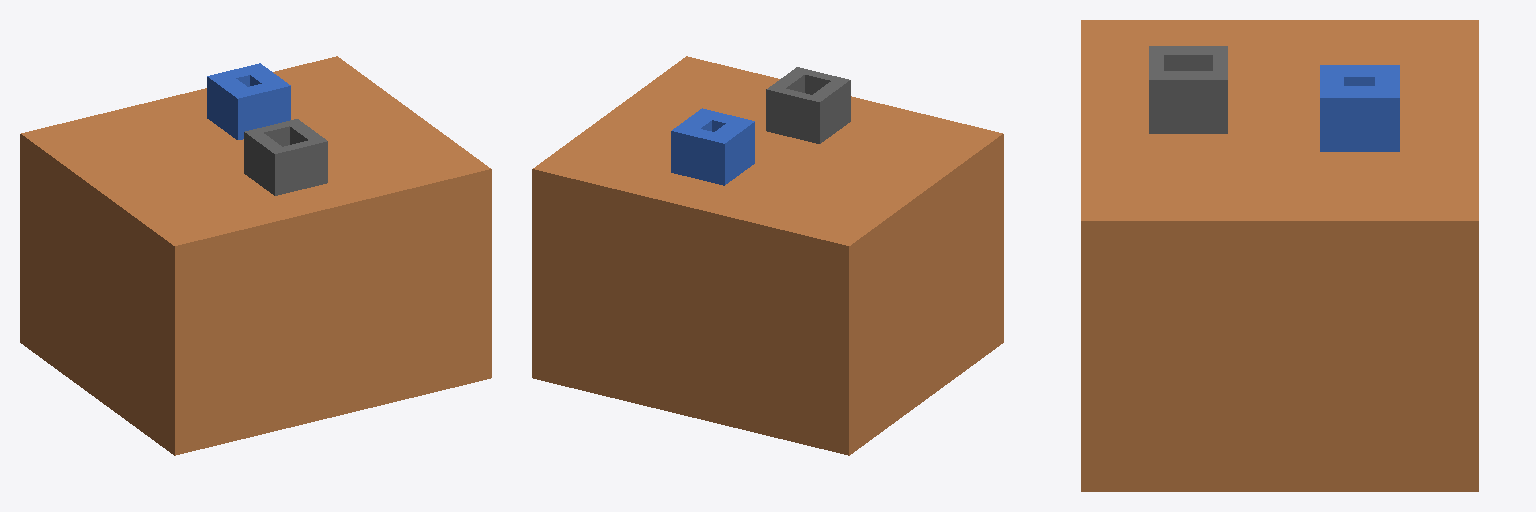
The robot description file, URDF, robot "peg_in_hole_fixtured_scene_0031_peg0018_tol04":
<?xml version="1.0"?>
<robot name="peg_in_hole_fixtured_scene_0031_peg0018_tol04">
  <material name="wood"><color rgba="0.82 0.56 0.35 1.0"/></material>
  <material name="start_fix"><color rgba="0.30 0.50 0.85 1.0"/></material>
  <material name="goal_fix"><color rgba="0.4706 0.4706 0.4706 1.0"/></material>
  <link name="box">
    <visual>
      <origin xyz="0.000000 0.000000 0.000000" rpy="0 0 0"/>
      <geometry><box size="0.475000 0.400000 0.300000"/></geometry>
      <material name="wood"/>
    </visual>
    <collision>
      <origin xyz="0.000000 0.000000 0.000000" rpy="0 0 0"/>
      <geometry><box size="0.475000 0.400000 0.300000"/></geometry>
    </collision>
    <visual>
      <origin xyz="0.035754 0.080003 0.155000" rpy="0 0 0"/>
      <geometry><box size="0.080000 0.080000 0.010000"/></geometry>
      <material name="start_fix"/>
    </visual>
    <collision>
      <origin xyz="0.035754 0.080003 0.155000" rpy="0 0 0"/>
      <geometry><box size="0.080000 0.080000 0.010000"/></geometry>
    </collision>
    <visual>
      <origin xyz="0.061004 0.080003 0.185000" rpy="0 0 0"/>
      <geometry><box size="0.029500 0.080000 0.050000"/></geometry>
      <material name="start_fix"/>
    </visual>
    <collision>
      <origin xyz="0.061004 0.080003 0.185000" rpy="0 0 0"/>
      <geometry><box size="0.029500 0.080000 0.050000"/></geometry>
    </collision>
    <visual>
      <origin xyz="0.010504 0.080003 0.185000" rpy="0 0 0"/>
      <geometry><box size="0.029500 0.080000 0.050000"/></geometry>
      <material name="start_fix"/>
    </visual>
    <collision>
      <origin xyz="0.010504 0.080003 0.185000" rpy="0 0 0"/>
      <geometry><box size="0.029500 0.080000 0.050000"/></geometry>
    </collision>
    <visual>
      <origin xyz="0.035754 0.107753 0.185000" rpy="0 0 0"/>
      <geometry><box size="0.021000 0.024500 0.050000"/></geometry>
      <material name="start_fix"/>
    </visual>
    <collision>
      <origin xyz="0.035754 0.107753 0.185000" rpy="0 0 0"/>
      <geometry><box size="0.021000 0.024500 0.050000"/></geometry>
    </collision>
    <visual>
      <origin xyz="0.035754 0.052253 0.185000" rpy="0 0 0"/>
      <geometry><box size="0.021000 0.024500 0.050000"/></geometry>
      <material name="start_fix"/>
    </visual>
    <collision>
      <origin xyz="0.035754 0.052253 0.185000" rpy="0 0 0"/>
      <geometry><box size="0.021000 0.024500 0.050000"/></geometry>
    </collision>
    <visual>
      <origin xyz="-0.007700 -0.091849 0.155000" rpy="0 0 0"/>
      <geometry><box size="0.080000 0.080000 0.010000"/></geometry>
      <material name="goal_fix"/>
    </visual>
    <collision>
      <origin xyz="-0.007700 -0.091849 0.155000" rpy="0 0 0"/>
      <geometry><box size="0.080000 0.080000 0.010000"/></geometry>
    </collision>
    <visual>
      <origin xyz="0.022236 -0.091849 0.185000" rpy="0 0 0"/>
      <geometry><box size="0.020128 0.080000 0.050000"/></geometry>
      <material name="goal_fix"/>
    </visual>
    <collision>
      <origin xyz="0.022236 -0.091849 0.185000" rpy="0 0 0"/>
      <geometry><box size="0.020128 0.080000 0.050000"/></geometry>
    </collision>
    <visual>
      <origin xyz="-0.037636 -0.091849 0.185000" rpy="0 0 0"/>
      <geometry><box size="0.020128 0.080000 0.050000"/></geometry>
      <material name="goal_fix"/>
    </visual>
    <collision>
      <origin xyz="-0.037636 -0.091849 0.185000" rpy="0 0 0"/>
      <geometry><box size="0.020128 0.080000 0.050000"/></geometry>
    </collision>
    <visual>
      <origin xyz="-0.007700 -0.059413 0.185000" rpy="0 0 0"/>
      <geometry><box size="0.039745 0.015128 0.050000"/></geometry>
      <material name="goal_fix"/>
    </visual>
    <collision>
      <origin xyz="-0.007700 -0.059413 0.185000" rpy="0 0 0"/>
      <geometry><box size="0.039745 0.015128 0.050000"/></geometry>
    </collision>
    <visual>
      <origin xyz="-0.007700 -0.124286 0.185000" rpy="0 0 0"/>
      <geometry><box size="0.039745 0.015128 0.050000"/></geometry>
      <material name="goal_fix"/>
    </visual>
    <collision>
      <origin xyz="-0.007700 -0.124286 0.185000" rpy="0 0 0"/>
      <geometry><box size="0.039745 0.015128 0.050000"/></geometry>
    </collision>
    <inertial>
      <mass value="500"/>
      <friction value="1.0"/>
      <inertia ixx="1000.0" ixy="0.0" ixz="0.0" iyy="1000.0" iyz="0.0" izz="1000.0"/>
    </inertial>
  </link>
</robot>

--- Render facts (derived) ---
The picture shows the robot from 3 angles, left to right: view 1: azimuth 30°, elevation 25°; view 2: azimuth 150°, elevation 25°; view 3: azimuth 270°, elevation 25°; orthographic projection.
Model peg_in_hole_fixtured_scene_0031_peg0018_tol04 with 1 links and 0 joints (none), rooted at box, posed every joint at zero.
Visible links, largest first — view 1: box; view 2: box; view 3: box.
Boxes of the visible links, left/top/right/bottom form: box: left=20, top=56, right=491, bottom=455; box: left=532, top=56, right=1003, bottom=455; box: left=1081, top=20, right=1478, bottom=491.
Size in the robot's own frame: 0.475 by 0.4 by 0.36 metres.
Geometry: primitives only (box / cylinder / sphere), no mesh files.
